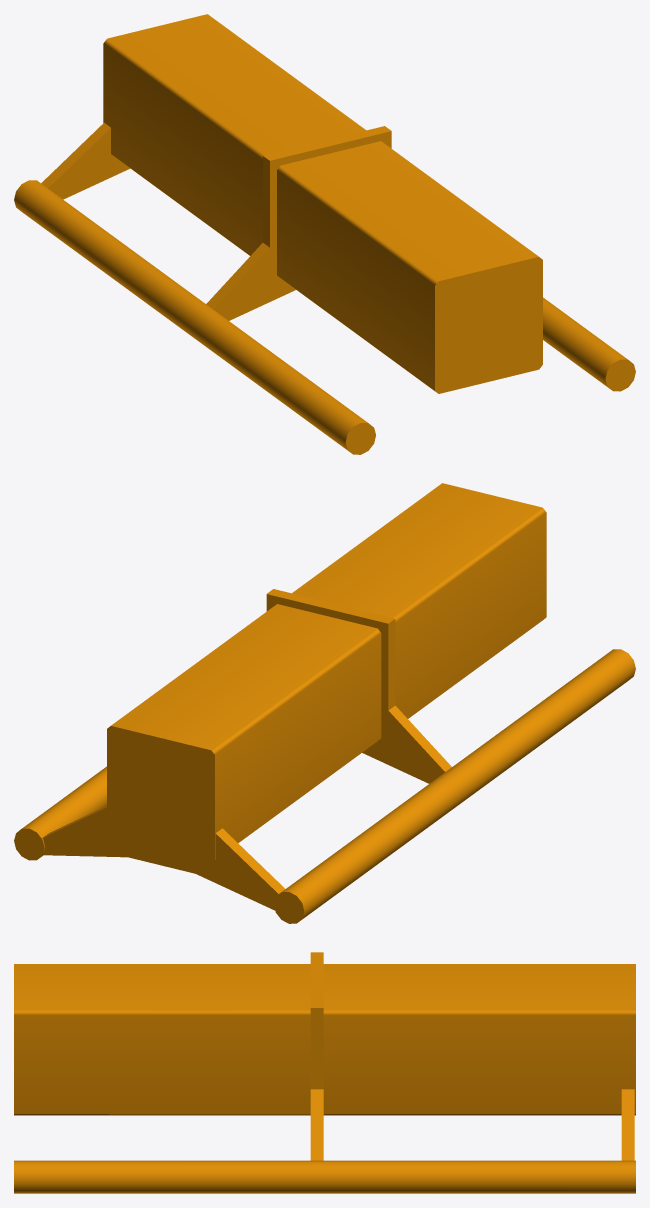
Rendered from track_flying_MOCK.fbx.
The picture shows the model from 3 angles, top to bottom: view 1: azimuth 30°, elevation 25°; view 2: azimuth 150°, elevation 25°; view 3: azimuth 270°, elevation 25°; orthographic projection. The views are drawn at different scales.
Parts seen in each view (by area): view 1: track_flying_MOCK; view 2: track_flying_MOCK; view 3: track_flying_MOCK.
Boxes of the visible parts, x1=… form: track_flying_MOCK: x1=14, y1=14, x2=635, y2=454; track_flying_MOCK: x1=14, y1=483, x2=635, y2=923; track_flying_MOCK: x1=14, y1=952, x2=635, y2=1193.
Size of the model in its own units: 0.5057 by 0.2694 by 1.
